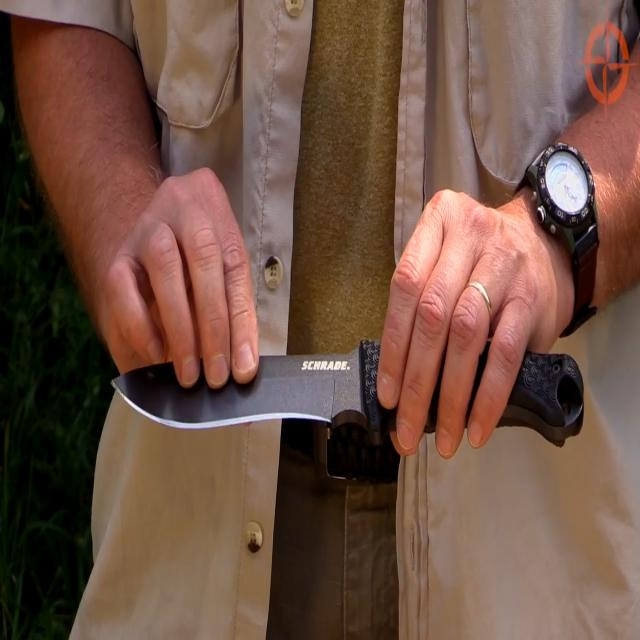knife: (111, 338, 379, 454)
